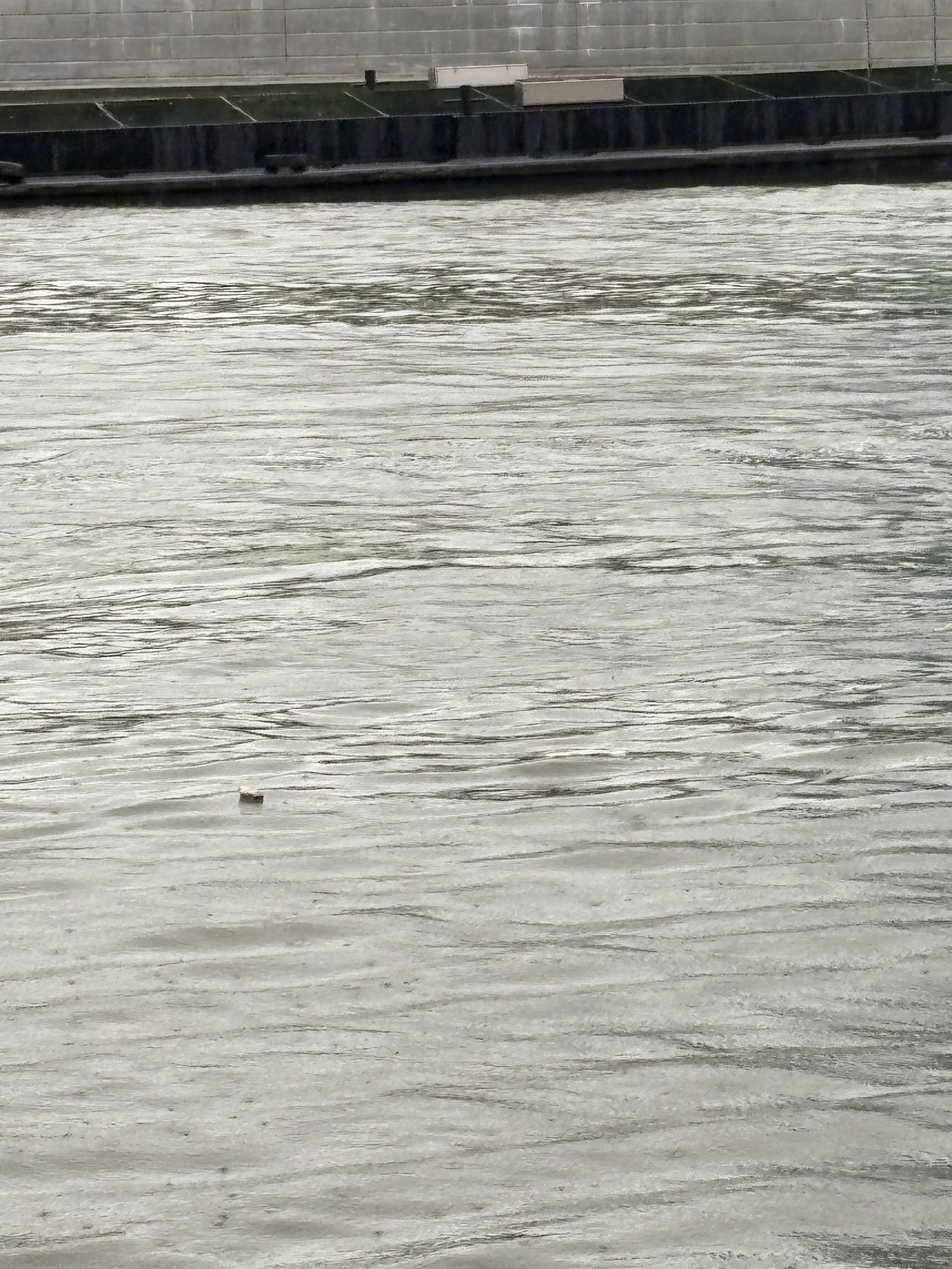Plastic wastes: (586, 918, 608, 953)
